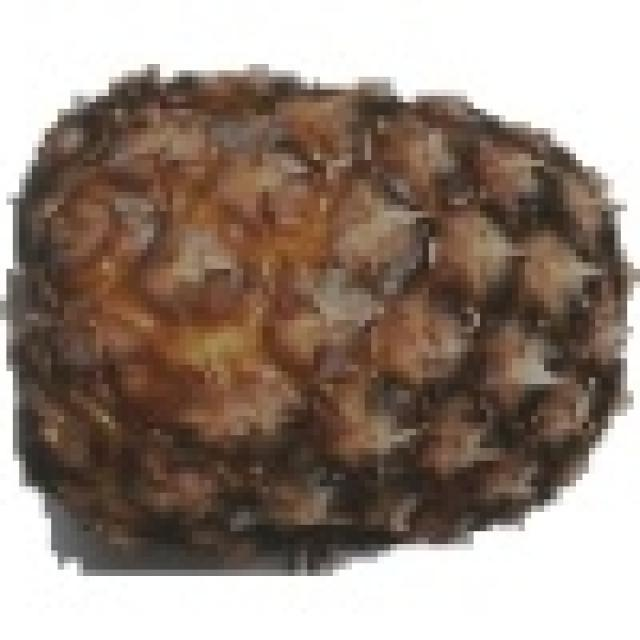pineapple: (26, 64, 634, 557)
